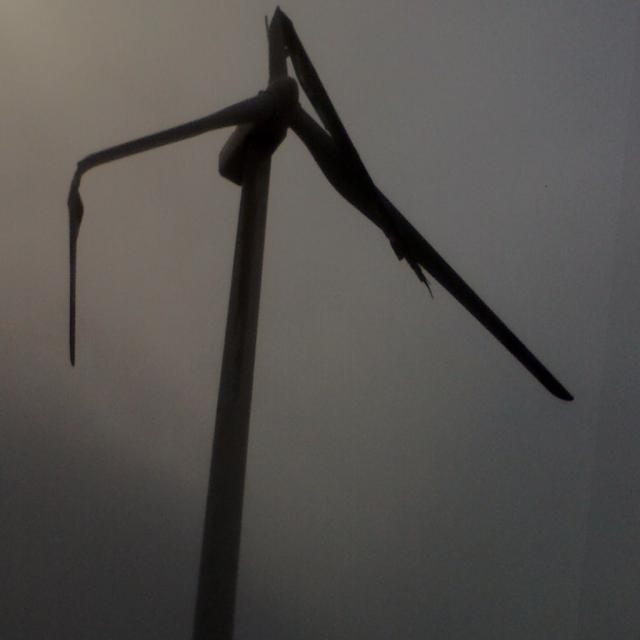crack: (262, 5, 436, 293), (59, 146, 108, 364)
